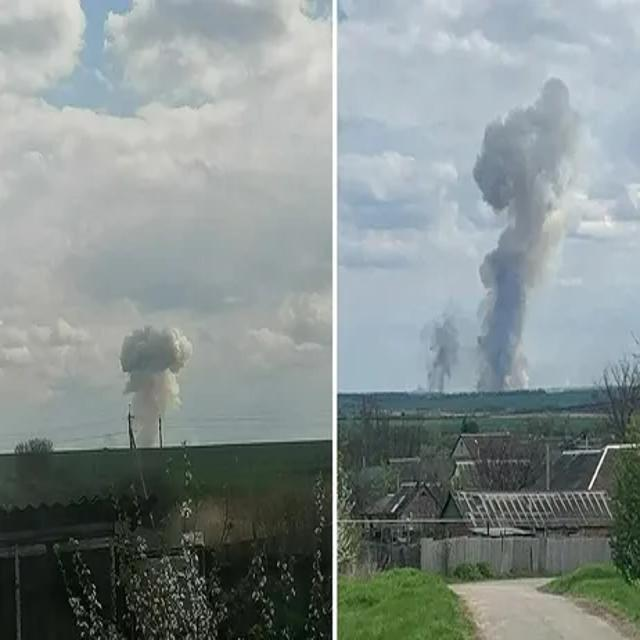Smoke: (474, 78, 582, 389), (120, 328, 190, 447), (420, 310, 462, 391)
